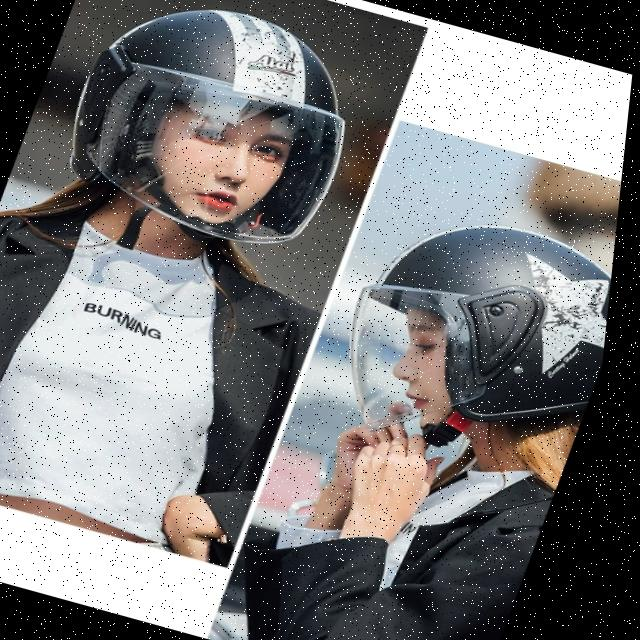helmet: (31, 0, 396, 274), (314, 185, 625, 485)
